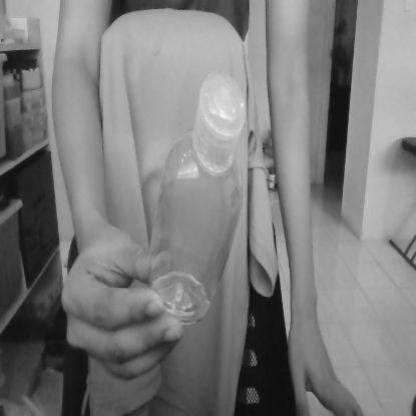Plastic Bottle: (140, 72, 250, 335)
